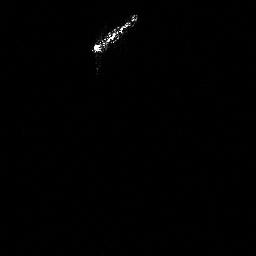ship: (87, 9, 142, 57)
